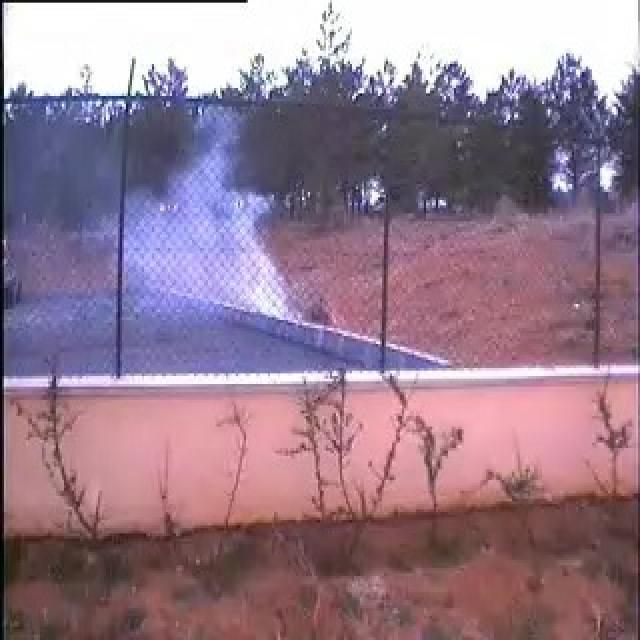smoke: (123, 102, 302, 327)
